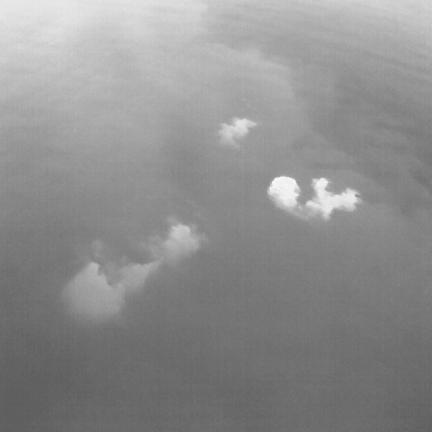flukeprints: (64, 261, 159, 320), (304, 178, 360, 219), (152, 223, 205, 262), (267, 176, 300, 213), (218, 117, 256, 148)
